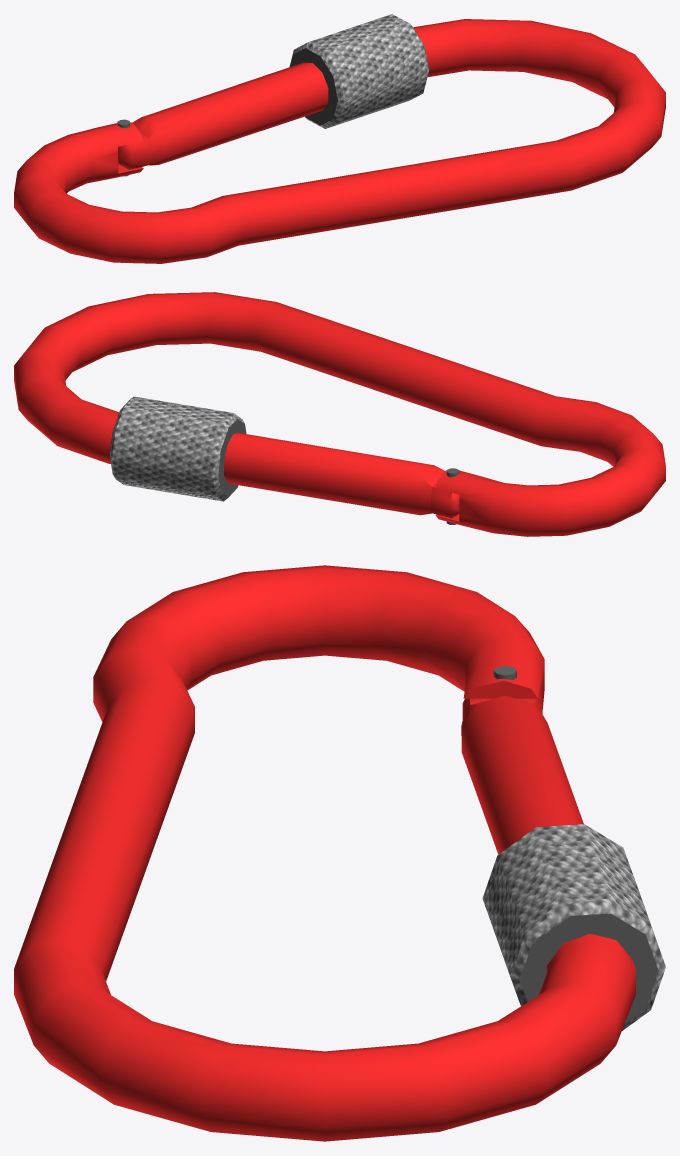
The model's file is Carabiner.fbx.
3 renders of one model, top to bottom at view 1: azimuth 30°, elevation 25°; view 2: azimuth 150°, elevation 25°; view 3: azimuth 270°, elevation 25°, orthographic. The views are drawn at different scales.
Parts seen in each view (by area): view 1: Carabiner; view 2: Carabiner; view 3: Carabiner.
Boxes of the visible parts, x1,y1,x2,y2 form: Carabiner: (14,14,665,263); Carabiner: (14,292,665,536); Carabiner: (14,565,665,1141).
Bounding box in the file's own units: 0.0426 × 0.00515 × 0.0224.
Materials: 1 (1 with a texture image).
